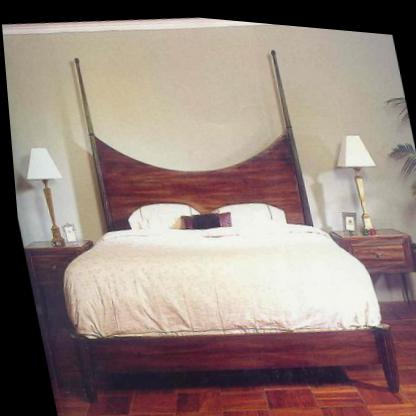Bed: (59, 127, 392, 403)
Wooden floor: (74, 377, 416, 416)
